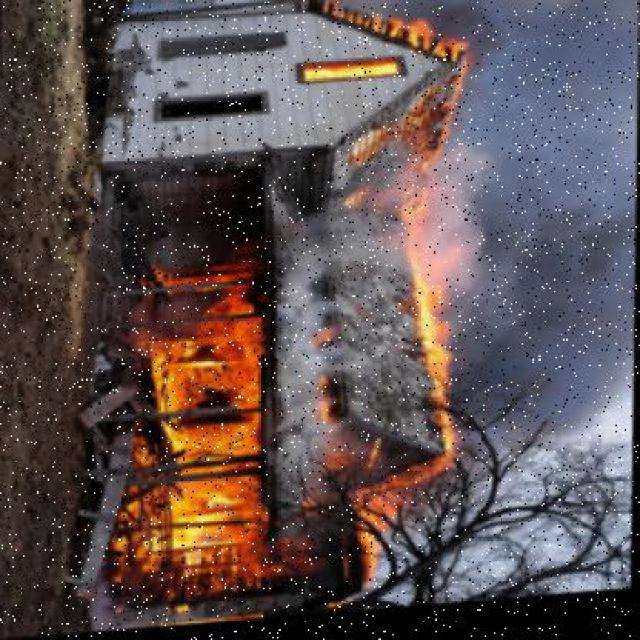fire: (94, 224, 431, 633)
